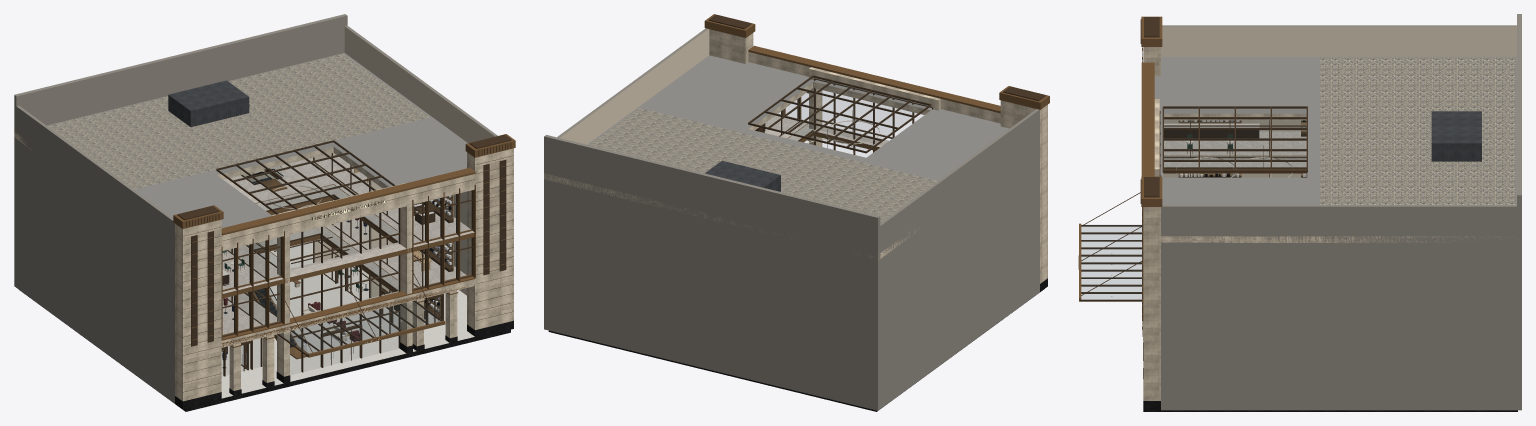
Rendered from the_promenade_galleria_LOD0.fbx.
3 renders of one model, left to right at view 1: azimuth 30°, elevation 25°; view 2: azimuth 150°, elevation 25°; view 3: azimuth 270°, elevation 25°, orthographic. The views are drawn at different scales.
Visible parts, largest first — view 1: B05_LOD0_BUILDING_EXTERIOR_Stone, B05_LOD0_BUILDING_EXTERIOR_Roof, B05_LOD0_BUILDING_EXTERIOR_RearInterface, B05_LOD0_BUILDING_INTERIOR_GroundSlab, B05_LOD0_BUILDING_INTERIOR_L2Slab, B05_LOD0_BUILDING_INTERIOR_L1Slab, B05_LOD0_FACADE_DETAILS_Bronze, B05_LOD0_FACADE_DETAILS_Canopy, B05_LOD0_GLASS_SYSTEM_TowerSlots, B05_LOD0_GLASS_SYSTEM_PortalFrame, B05_LOD0_GLASS_SYSTEM_Skylight, B05_LOD0_GLASS_SYSTEM_Upper-13Frame (+5 smaller); view 2: B05_LOD0_BUILDING_EXTERIOR_Stone, B05_LOD0_BUILDING_EXTERIOR_Roof, B05_LOD0_BUILDING_EXTERIOR_RearInterface, B05_LOD0_FACADE_DETAILS_Bronze, B05_LOD0_GLASS_SYSTEM_Skylight, B05_LOD0_BUILDING_INTERIOR_L2Slab, B05_LOD0_GLASS_SYSTEM_PortalFrame, B05_LOD0_BUILDING_INTERIOR_GroundSlab; view 3: B05_LOD0_BUILDING_EXTERIOR_Stone, B05_LOD0_BUILDING_EXTERIOR_Roof, B05_LOD0_FACADE_DETAILS_Canopy, B05_LOD0_BUILDING_INTERIOR_L2Slab, B05_LOD0_GLASS_SYSTEM_Skylight, B05_LOD0_FACADE_DETAILS_Bronze, B05_LOD0_FURNITURE_Shops, B05_LOD0_BUILDING_EXTERIOR_RearInterface, B05_LOD0_BUILDING_INTERIOR_GroundSlab, B05_LOD0_DISPLAY_OBJECTS_Merch, B05_LOD0_BUILDING_INTERIOR_VoidRail2Frame, B05_LOD0_BUILDING_INTERIOR_ShopFront2-10Frame.
Part boxes in pixels (<box>): B05_LOD0_BUILDING_EXTERIOR_Stone: <box>14,25,513,409</box>; B05_LOD0_BUILDING_EXTERIOR_Roof: <box>14,53,513,260</box>; B05_LOD0_BUILDING_EXTERIOR_RearInterface: <box>14,14,347,286</box>; B05_LOD0_BUILDING_INTERIOR_GroundSlab: <box>19,241,510,411</box>; B05_LOD0_BUILDING_INTERIOR_L2Slab: <box>222,157,474,298</box>; B05_LOD0_BUILDING_INTERIOR_L1Slab: <box>221,205,474,346</box>; B05_LOD0_FACADE_DETAILS_Bronze: <box>173,134,515,340</box>; B05_LOD0_FACADE_DETAILS_Canopy: <box>277,270,445,357</box>; B05_LOD0_GLASS_SYSTEM_TowerSlots: <box>191,159,506,346</box>; B05_LOD0_GLASS_SYSTEM_PortalFrame: <box>290,208,400,372</box>; B05_LOD0_GLASS_SYSTEM_Skylight: <box>216,140,395,214</box>; B05_LOD0_GLASS_SYSTEM_Upper-13Frame: <box>221,231,284,339</box>; B05_LOD0_BUILDING_EXTERIOR_Stone: <box>544,28,1047,410</box>; B05_LOD0_BUILDING_EXTERIOR_Roof: <box>544,55,1009,260</box>; B05_LOD0_BUILDING_EXTERIOR_RearInterface: <box>544,135,880,410</box>; B05_LOD0_FACADE_DETAILS_Bronze: <box>704,14,1049,113</box>; B05_LOD0_GLASS_SYSTEM_Skylight: <box>748,75,931,153</box>; B05_LOD0_BUILDING_INTERIOR_L2Slab: <box>764,113,888,150</box>; B05_LOD0_GLASS_SYSTEM_PortalFrame: <box>814,78,932,154</box>; B05_LOD0_BUILDING_INTERIOR_GroundSlab: <box>548,289,1043,411</box>; B05_LOD0_BUILDING_EXTERIOR_Stone: <box>1143,25,1521,410</box>; B05_LOD0_BUILDING_EXTERIOR_Roof: <box>1143,56,1520,242</box>; B05_LOD0_FACADE_DETAILS_Canopy: <box>1079,192,1141,301</box>; B05_LOD0_BUILDING_INTERIOR_L2Slab: <box>1163,131,1306,173</box>; B05_LOD0_GLASS_SYSTEM_Skylight: <box>1162,106,1307,172</box>; B05_LOD0_FACADE_DETAILS_Bronze: <box>1140,16,1162,321</box>; B05_LOD0_FURNITURE_Shops: <box>1164,123,1259,153</box>; B05_LOD0_BUILDING_EXTERIOR_RearInterface: <box>1517,14,1521,340</box>; B05_LOD0_BUILDING_INTERIOR_GroundSlab: <box>1143,410,1517,411</box>; B05_LOD0_DISPLAY_OBJECTS_Merch: <box>1178,120,1306,177</box>; B05_LOD0_BUILDING_INTERIOR_VoidRail2Frame: <box>1164,155,1307,177</box>; B05_LOD0_BUILDING_INTERIOR_ShopFront2-10Frame: <box>1164,120,1269,158</box>.
Size of what is drawn, in the model's own units: 34.2 by 35.16 by 19.08.
